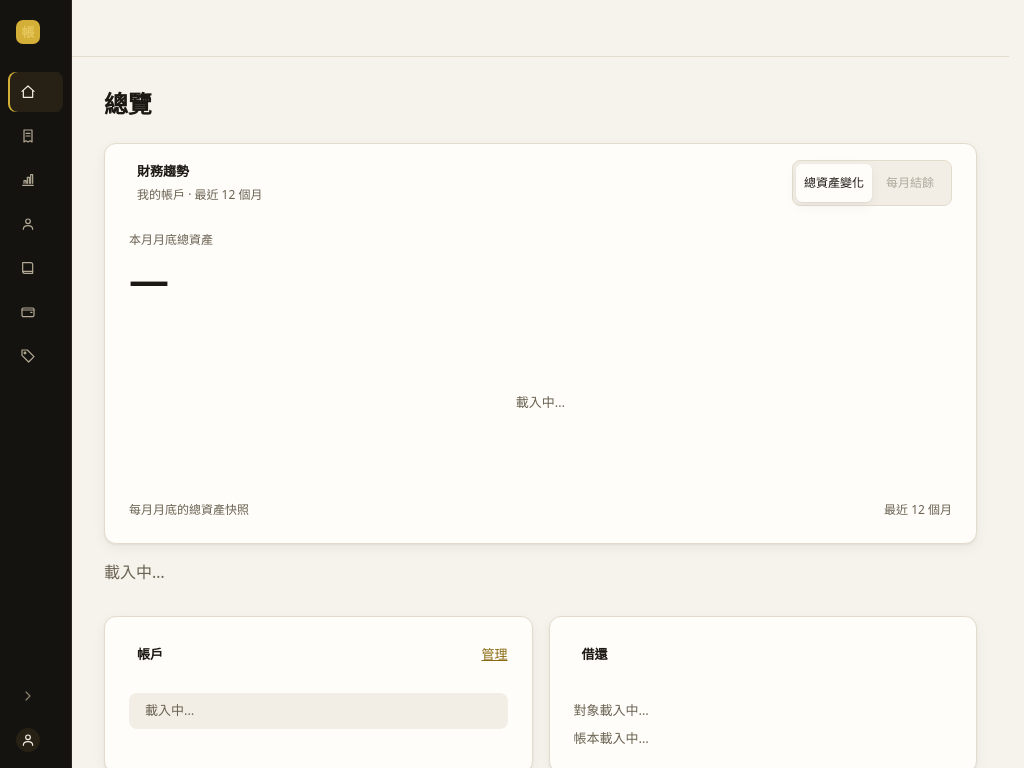
Test: UserMenu › still offers the menu when the user name cannot be loaded
Click the button named "帳號選單": [36, 740] box [8, 720, 63, 760]
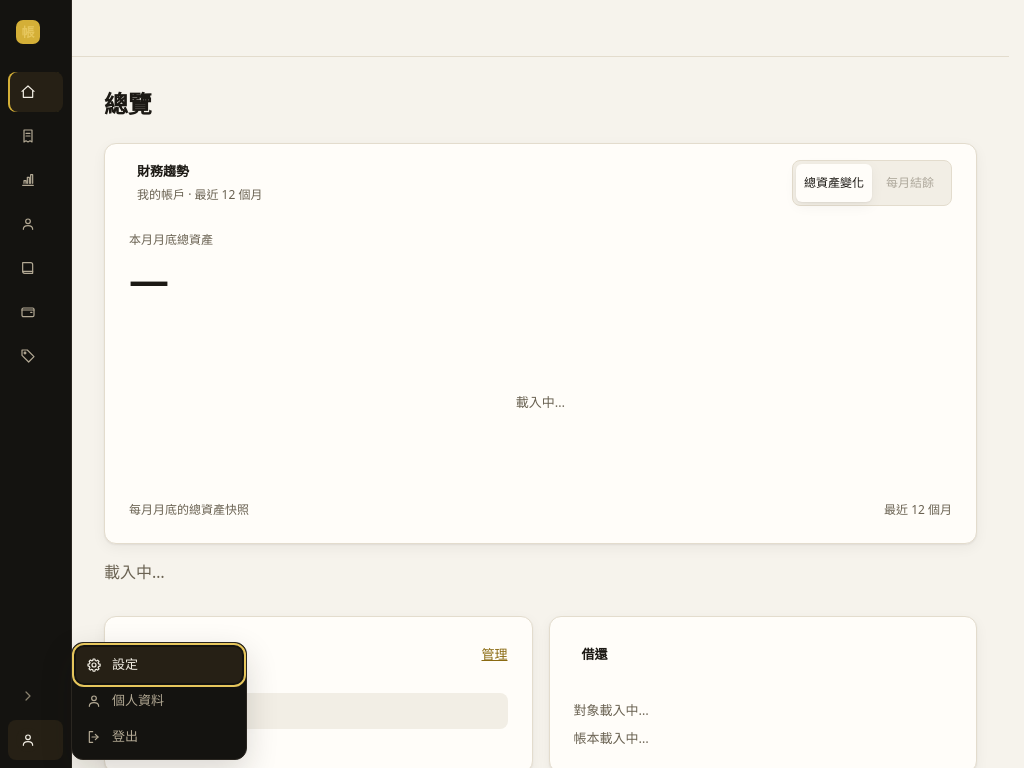
Check: the button "登出" is shown, box [76, 719, 242, 755]
